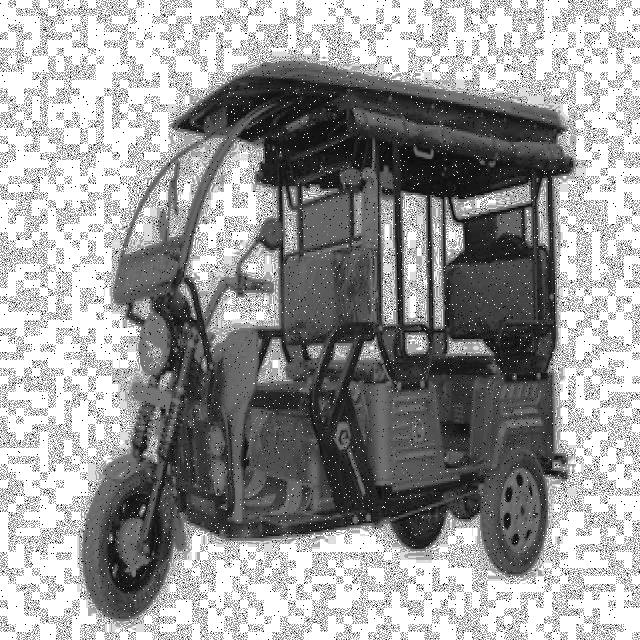Toto: (85, 55, 571, 619)
